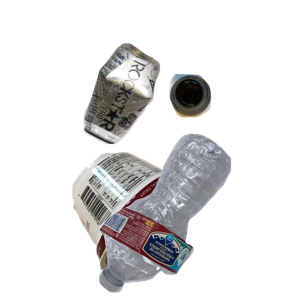glass: (166, 71, 300, 181)
metal: (81, 41, 234, 178)
plastic: (96, 131, 300, 300)
trash: (70, 149, 254, 300)
